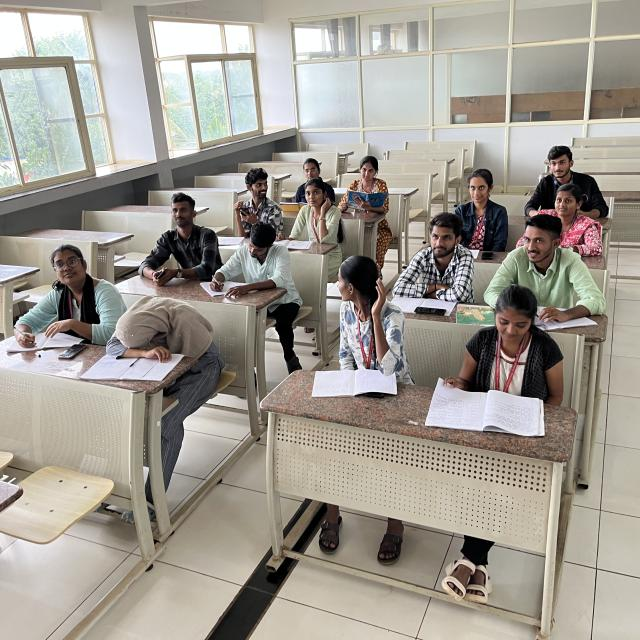Sleeping: (106, 296, 210, 360)
Using Phone: (140, 187, 213, 284), (228, 168, 284, 230), (280, 161, 332, 209)
Writing: (11, 236, 113, 347), (207, 220, 284, 300)
